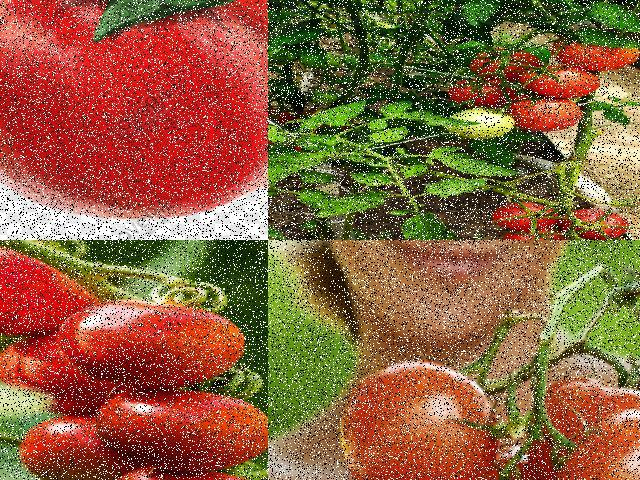tomato: (0, 0, 267, 223), (326, 359, 497, 479), (55, 296, 266, 390), (79, 386, 267, 476), (515, 369, 639, 479), (0, 333, 140, 412), (0, 251, 106, 340), (22, 415, 147, 479), (556, 407, 639, 479), (541, 33, 635, 72), (515, 66, 609, 104), (494, 92, 580, 132), (456, 51, 544, 78), (552, 209, 627, 239), (452, 76, 514, 110), (493, 202, 556, 233)
